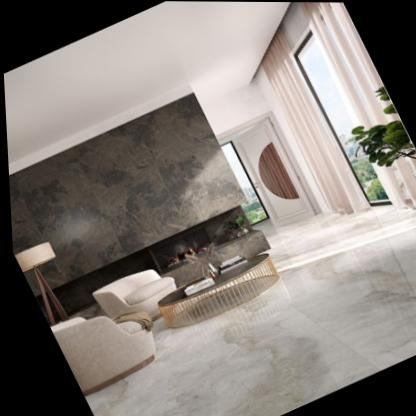Ceramic floor: (79, 206, 416, 416)
Curtains: (254, 2, 391, 214)
Wall Panel: (4, 90, 272, 343)
